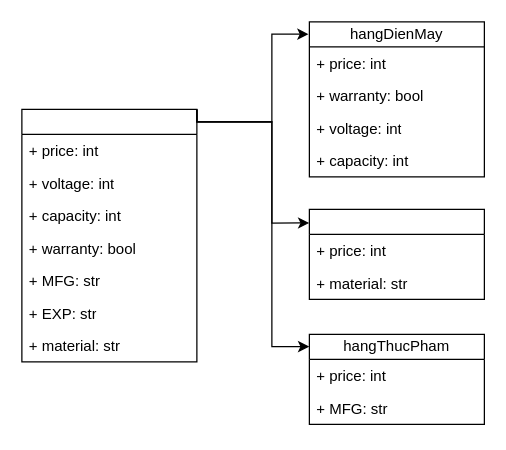
This 506x450 diagram has some shape labels left out. Each missing label, with the box of its shape:
hangHoa: (21, 108, 197, 362)
hangSanhSu: (308, 208, 484, 299)
